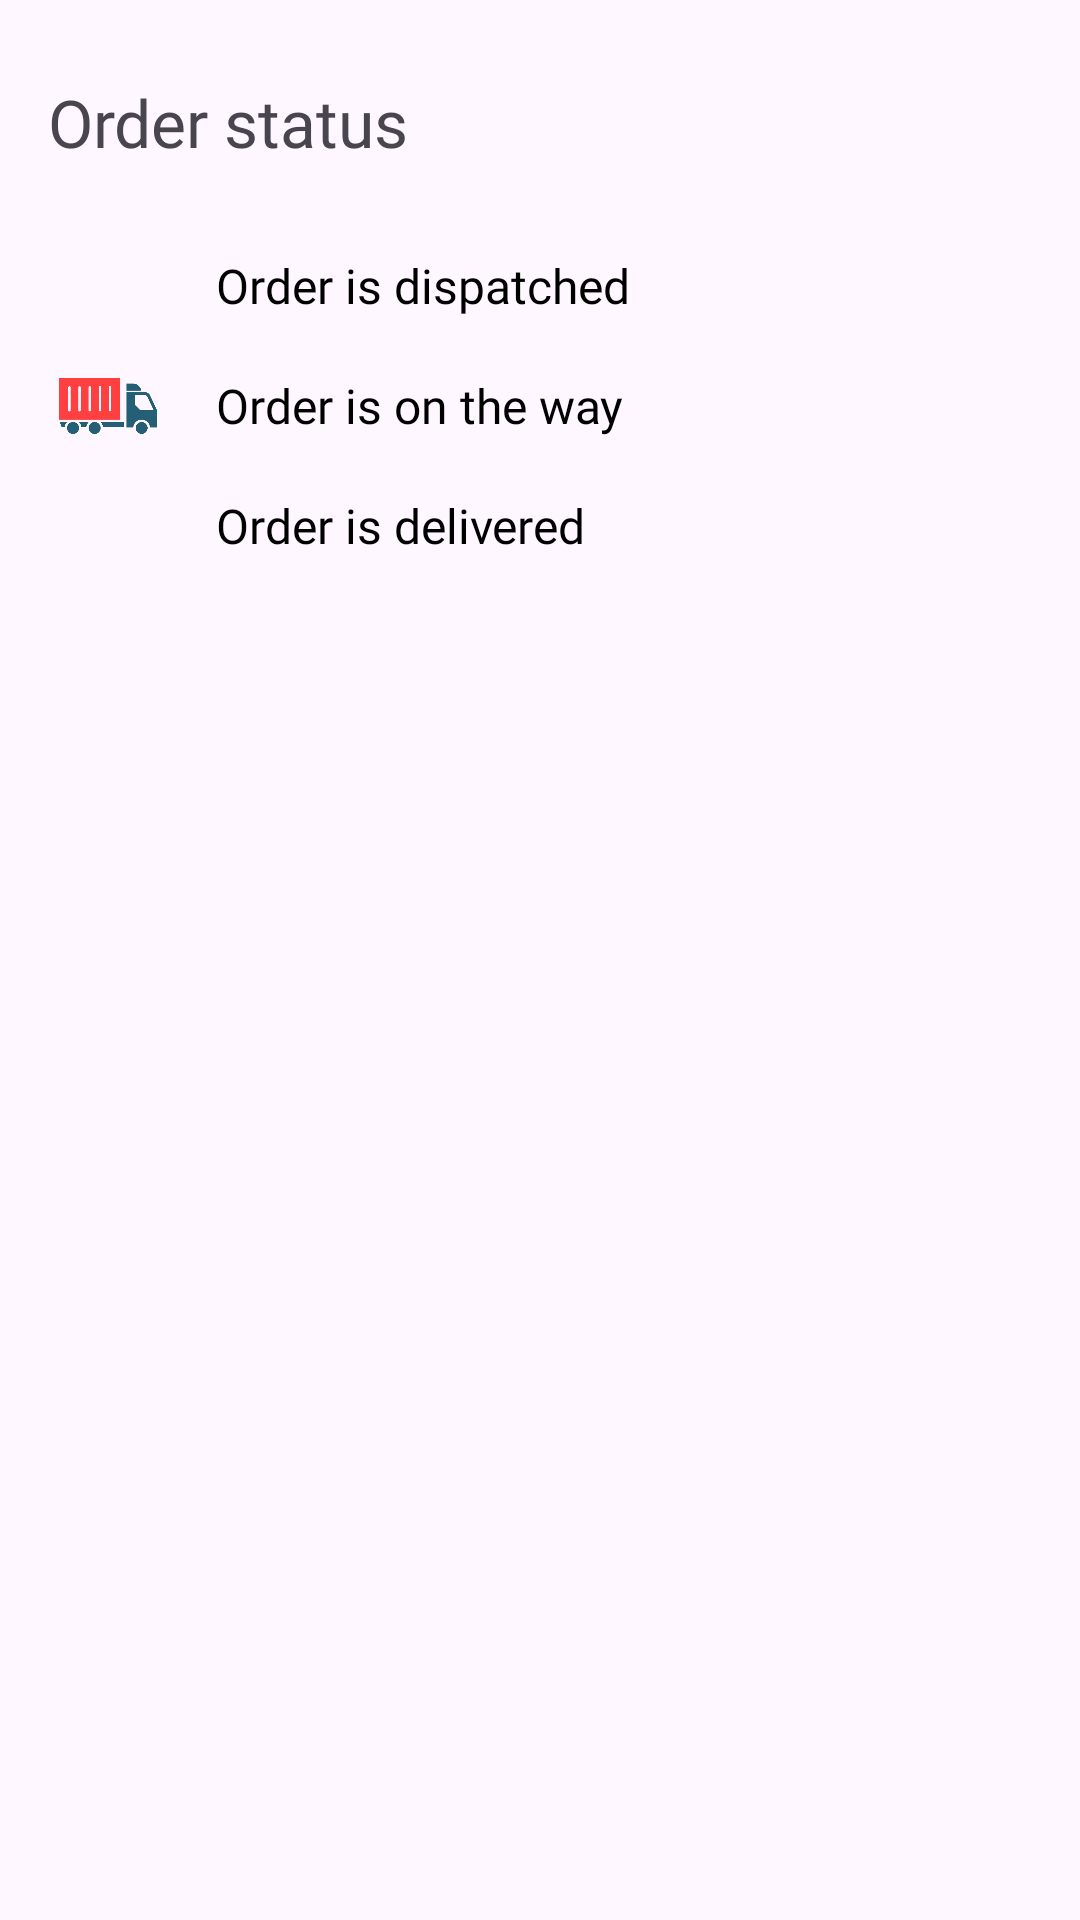

Screen size 1080px×1920px. Icon name, then its box in pixels as (x1, y1, x2, y2):
cargo: (59, 378, 157, 434)
